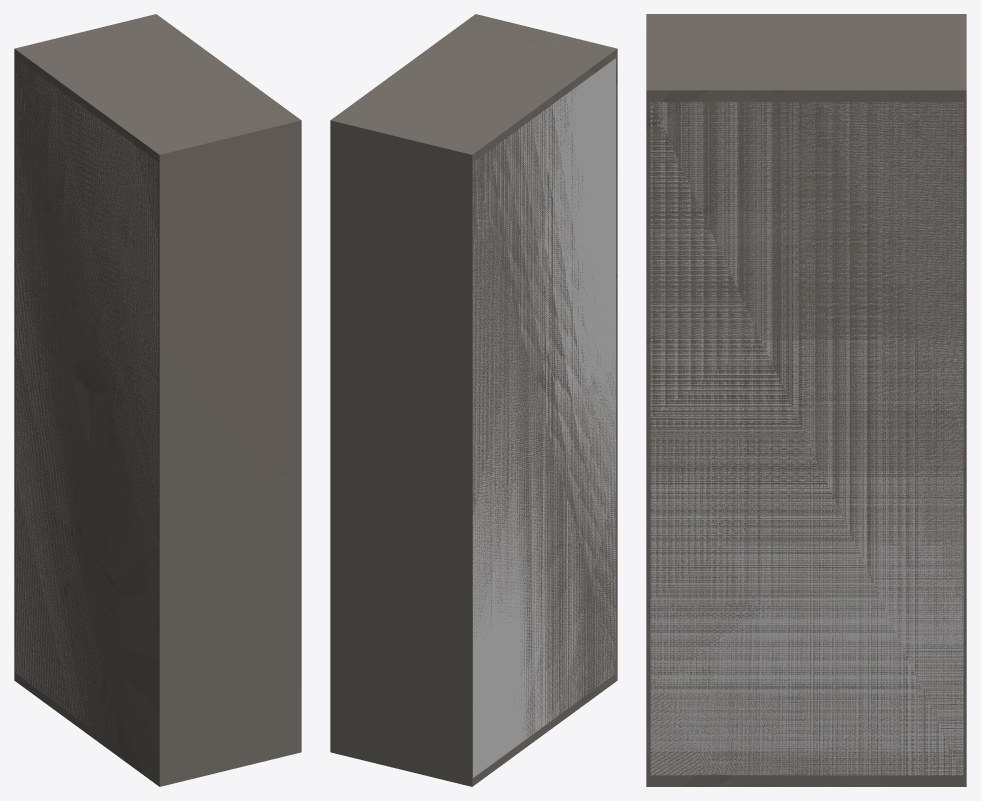
The model's file is SM_Bld_House_Base_Wall_Half_02.fbx.
The picture shows the model from 3 angles, left to right: view 1: azimuth 30°, elevation 25°; view 2: azimuth 150°, elevation 25°; view 3: azimuth 270°, elevation 25°; orthographic projection. The views are drawn at different scales.
Visible parts, largest first — view 1: SM_Bld_House_Base_Wall_Half_02, SM_Bld_House_Base_Wall_Half_02_ConvexHulls; view 2: SM_Bld_House_Base_Wall_Half_02, SM_Bld_House_Base_Wall_Half_02_ConvexHulls; view 3: SM_Bld_House_Base_Wall_Half_02, SM_Bld_House_Base_Wall_Half_02_ConvexHulls.
Boxes of the visible parts, box(x1,y1,x2,y2) form: SM_Bld_House_Base_Wall_Half_02: box(14, 14, 301, 786); SM_Bld_House_Base_Wall_Half_02_ConvexHulls: box(15, 59, 158, 733); SM_Bld_House_Base_Wall_Half_02: box(330, 14, 617, 786); SM_Bld_House_Base_Wall_Half_02_ConvexHulls: box(473, 58, 615, 777); SM_Bld_House_Base_Wall_Half_02: box(646, 14, 966, 786); SM_Bld_House_Base_Wall_Half_02_ConvexHulls: box(650, 102, 963, 775).
Size of the model in its own units: 70.48 by 125 by 300.
2 materials, 1 textured.
